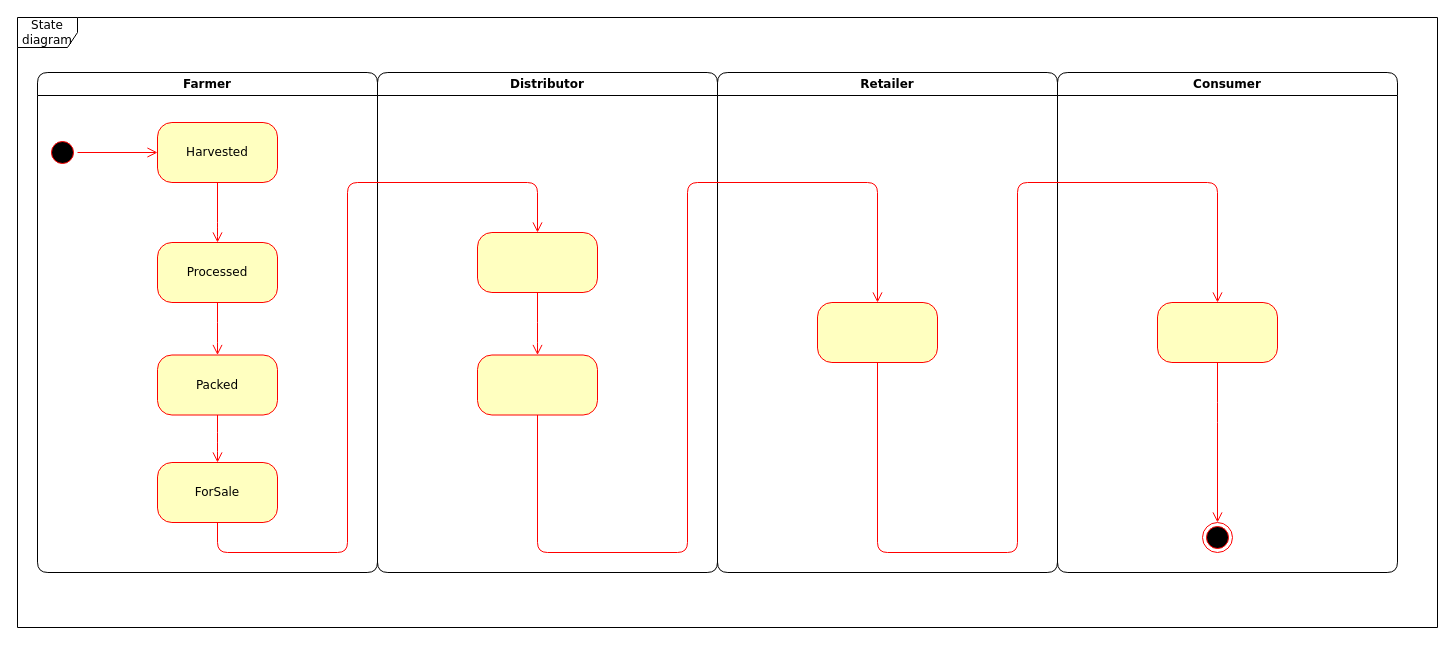
The diagram is 1455 pixels wide and 645 high, and some of its shapes have lost their labels. Here are the shapes that lost their labels. From the top down, the centre of each, then its label:
At (537,262): "Sold".
At (877,332): "Received".
At (1217,332): "Purchased".
At (537,384): "Shipped".
